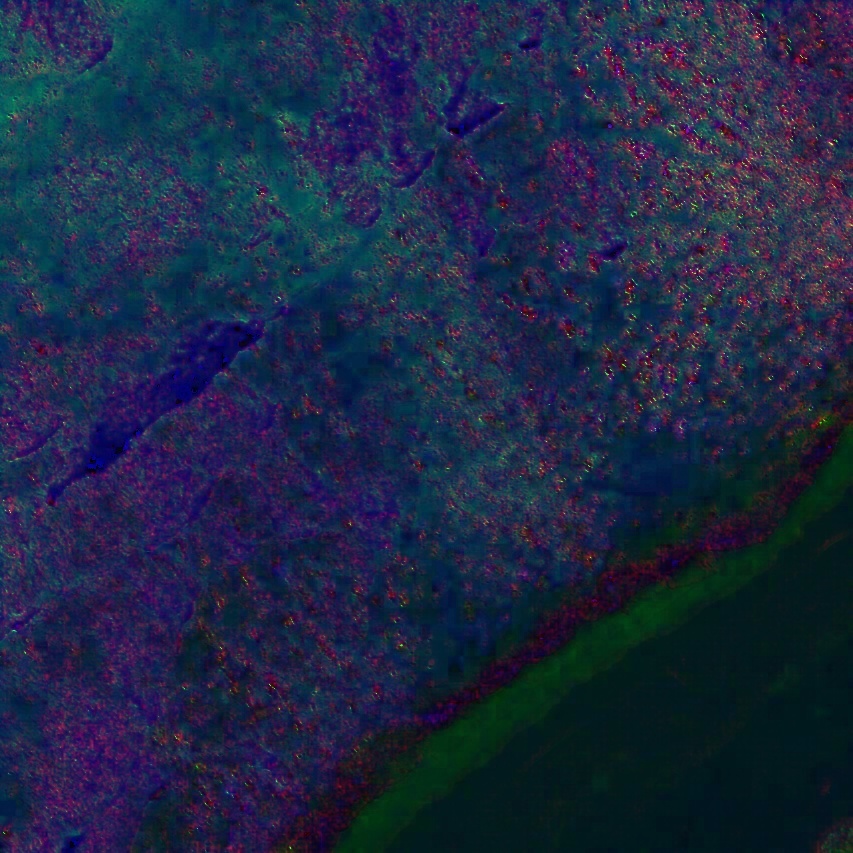rip_current: (117, 131, 602, 570)
